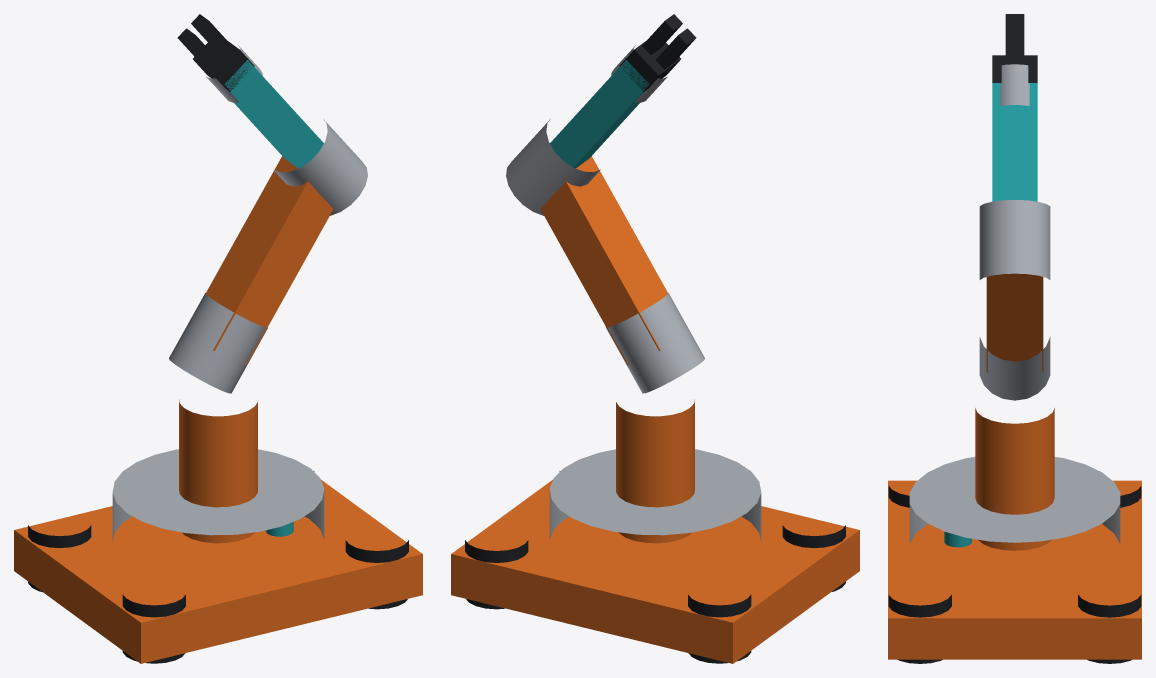
Rendered from RoboticArm.glb.
3 views of the same model, side by side, from view 1: azimuth 30°, elevation 25°; view 2: azimuth 150°, elevation 25°; view 3: azimuth 270°, elevation 25° (orthographic).
Visible parts, largest first — view 1: base, turret, arm_upper, column, joint_shoulder, arm_fore, joint_elbow, palm, foot_fl, foot_fr, foot_bl, finger_left (+1 smaller); view 2: base, turret, arm_upper, column, joint_shoulder, arm_fore, joint_elbow, palm, foot_bl, foot_br, foot_fl, finger_left (+1 smaller); view 3: base, turret, column, joint_elbow, arm_upper, arm_fore, joint_shoulder, wrist, foot_fr, foot_br, finger_right, palm.
Part boxes in pixels (x1=…): base: x1=14, y1=480, x2=422, y2=663; turret: x1=112, y1=449, x2=324, y2=542; arm_upper: x1=206, y1=156, x2=333, y2=365; column: x1=179, y1=399, x2=257, y2=543; joint_shoulder: x1=169, y1=293, x2=267, y2=393; arm_fore: x1=224, y1=60, x2=323, y2=168; joint_elbow: x1=273, y1=119, x2=367, y2=215; palm: x1=193, y1=41, x2=254, y2=91; foot_fl: x1=122, y1=594, x2=185, y2=663; foot_fr: x1=345, y1=540, x2=408, y2=609; foot_bl: x1=28, y1=525, x2=91, y2=591; finger_left: x1=177, y1=28, x2=218, y2=69; base: x1=451, y1=480, x2=859, y2=663; turret: x1=549, y1=449, x2=761, y2=542; arm_upper: x1=540, y1=156, x2=667, y2=365; column: x1=616, y1=399, x2=694, y2=543; joint_shoulder: x1=606, y1=293, x2=704, y2=393; arm_fore: x1=550, y1=60, x2=648, y2=168; joint_elbow: x1=506, y1=119, x2=600, y2=215; palm: x1=619, y1=41, x2=680, y2=91; foot_bl: x1=688, y1=594, x2=751, y2=663; foot_br: x1=465, y1=540, x2=528, y2=609; foot_fl: x1=782, y1=525, x2=845, y2=591; finger_left: x1=655, y1=28, x2=696, y2=69; base: x1=888, y1=480, x2=1141, y2=659; turret: x1=909, y1=457, x2=1120, y2=543; column: x1=975, y1=408, x2=1054, y2=550; joint_elbow: x1=979, y1=200, x2=1050, y2=279; arm_upper: x1=986, y1=273, x2=1043, y2=372; arm_fore: x1=992, y1=83, x2=1037, y2=201; joint_shoulder: x1=979, y1=337, x2=1050, y2=400; wrist: x1=1000, y1=64, x2=1029, y2=105; foot_fr: x1=888, y1=594, x2=951, y2=663; foot_br: x1=1078, y1=594, x2=1141, y2=663; finger_right: x1=1005, y1=14, x2=1024, y2=55; palm: x1=992, y1=55, x2=1037, y2=82.
Bounding box in the file's own units: 1.74 × 3.35 × 1.34.
